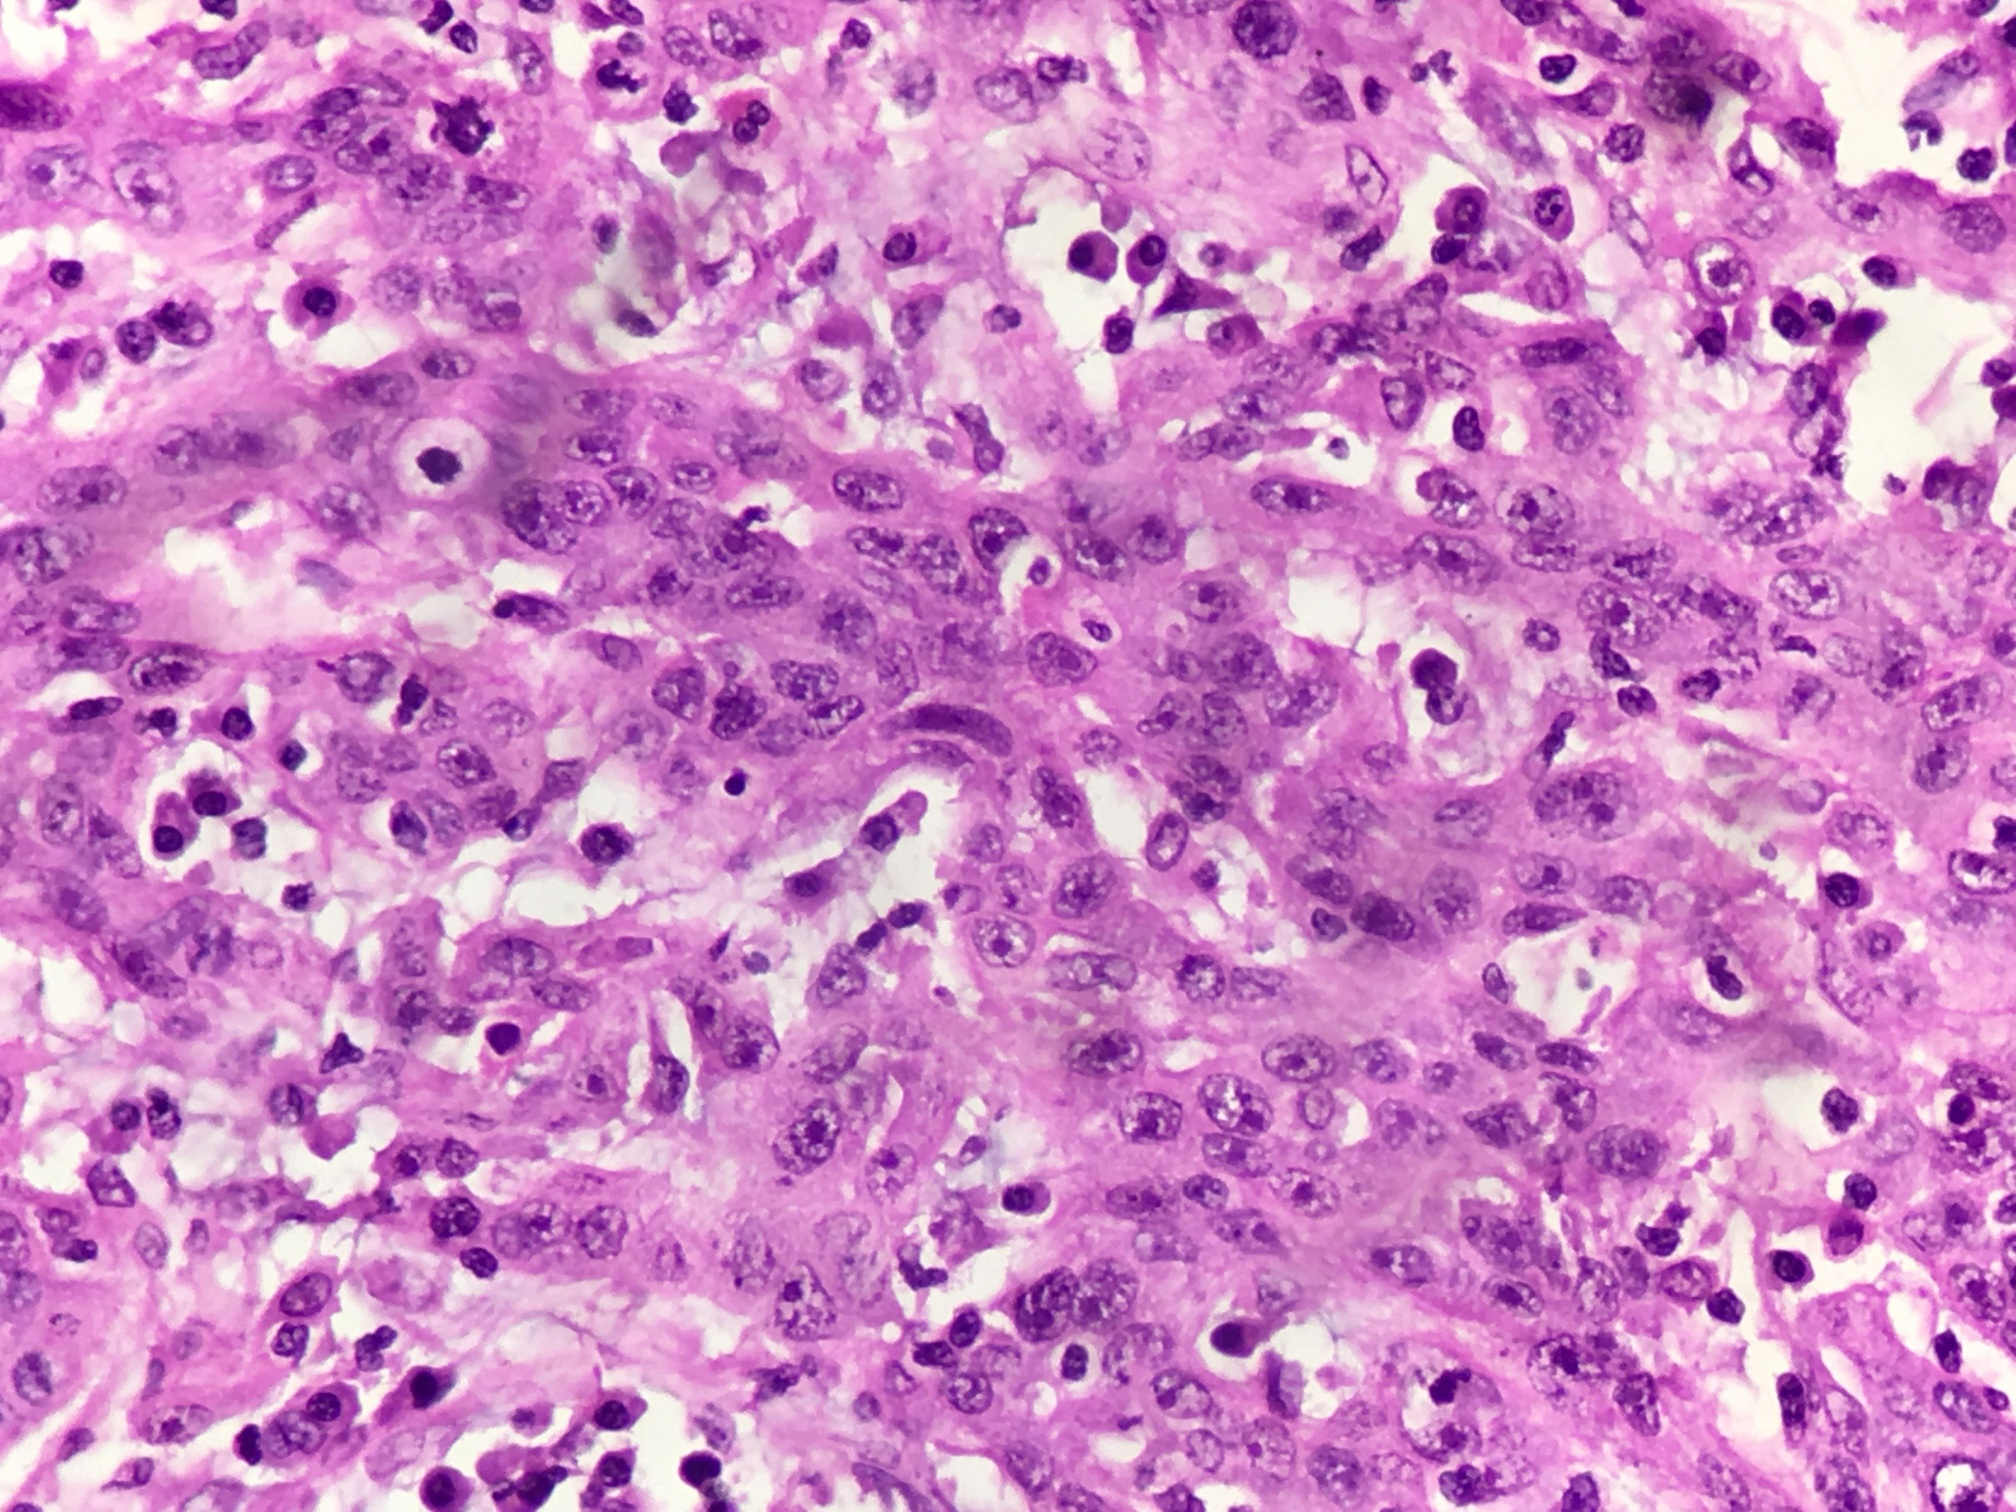mitotic: (386, 415, 492, 515)
